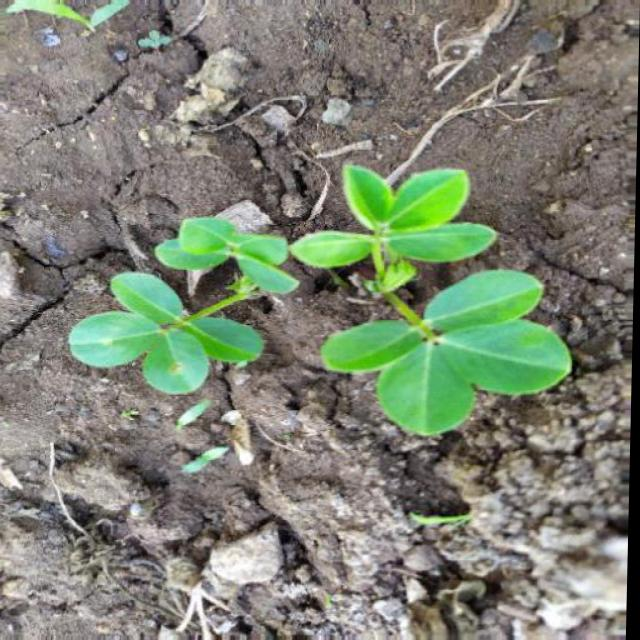weed: (71, 166, 582, 450)
